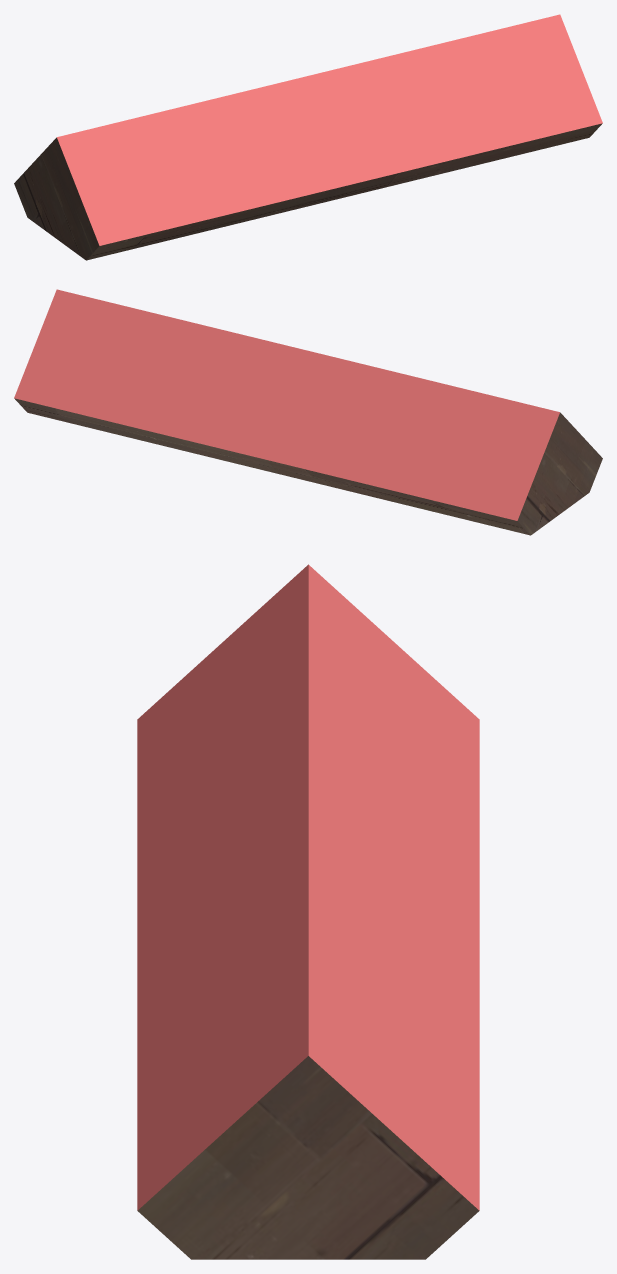
Rendered from beam2.FBX.
3 renders of one model, top to bottom at view 1: azimuth 30°, elevation 25°; view 2: azimuth 150°, elevation 25°; view 3: azimuth 270°, elevation 25°, orthographic. The views are drawn at different scales.
Visible parts, largest first — view 1: beam2; view 2: beam2; view 3: beam2.
Part boxes in pixels (x1,y1,x2,y2): beam2: (14, 14, 602, 260); beam2: (14, 289, 602, 535); beam2: (137, 564, 479, 1259).
Size of the model in its own units: 500 by 96.68 by 147.
2 materials, 1 textured.
